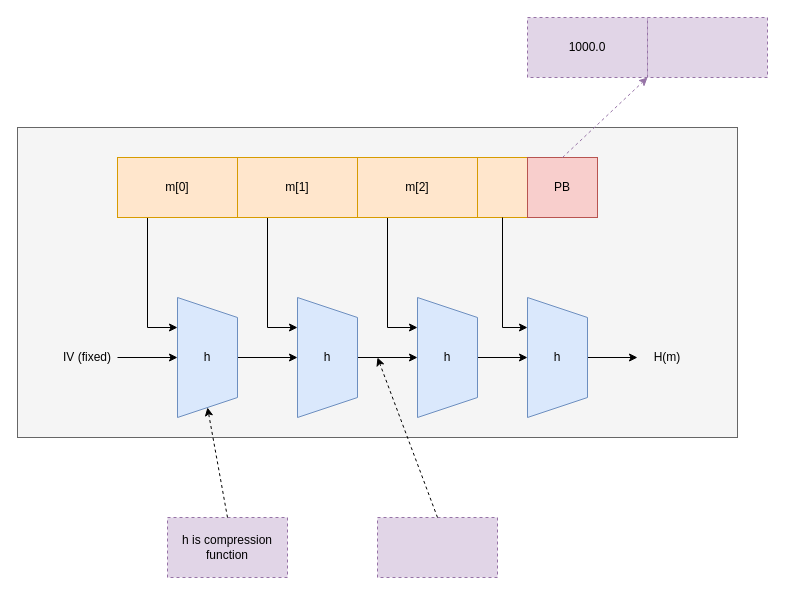
This 785x595 diagram has some shape labels left out. The shapes that lost their labels are listed below. From the top down, each one's centre as x and y in pixels, then its label:
At point 707,47: "message len (64 bits)".
At point 502,187: "m[3]".
At point 437,547: "Hi is chaining variables".
